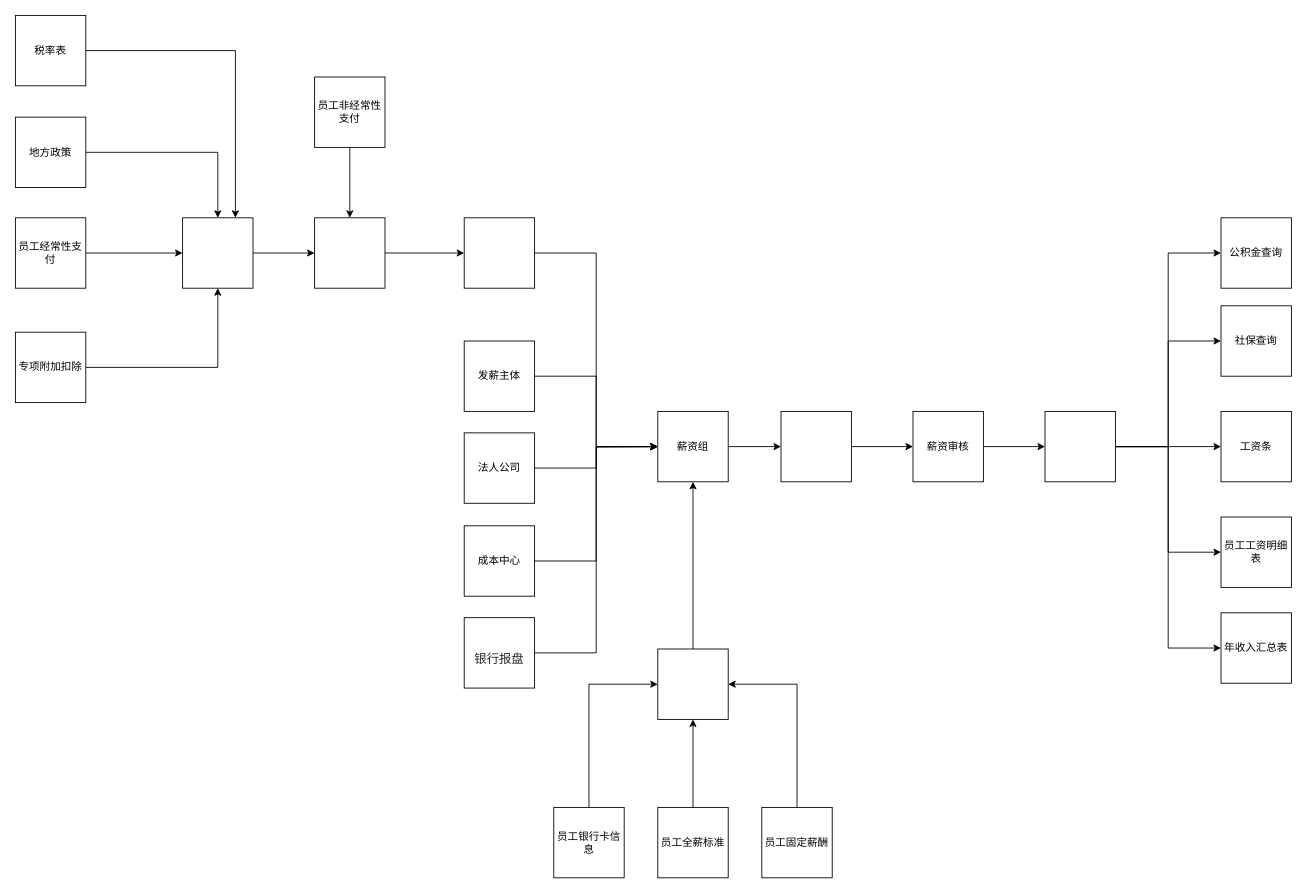
This 1307x893 diagram has some shape labels left out. The centre of each missing label's shape, as x and y in pixels:
"员工" goes at pixel 692 683.
"基础数据" goes at pixel 217 252.
"工资套" goes at pixel 499 252.
"薪资发放" goes at pixel 1079 446.
"薪资核算" goes at pixel 815 446.
"薪资项目" goes at pixel 349 252.
